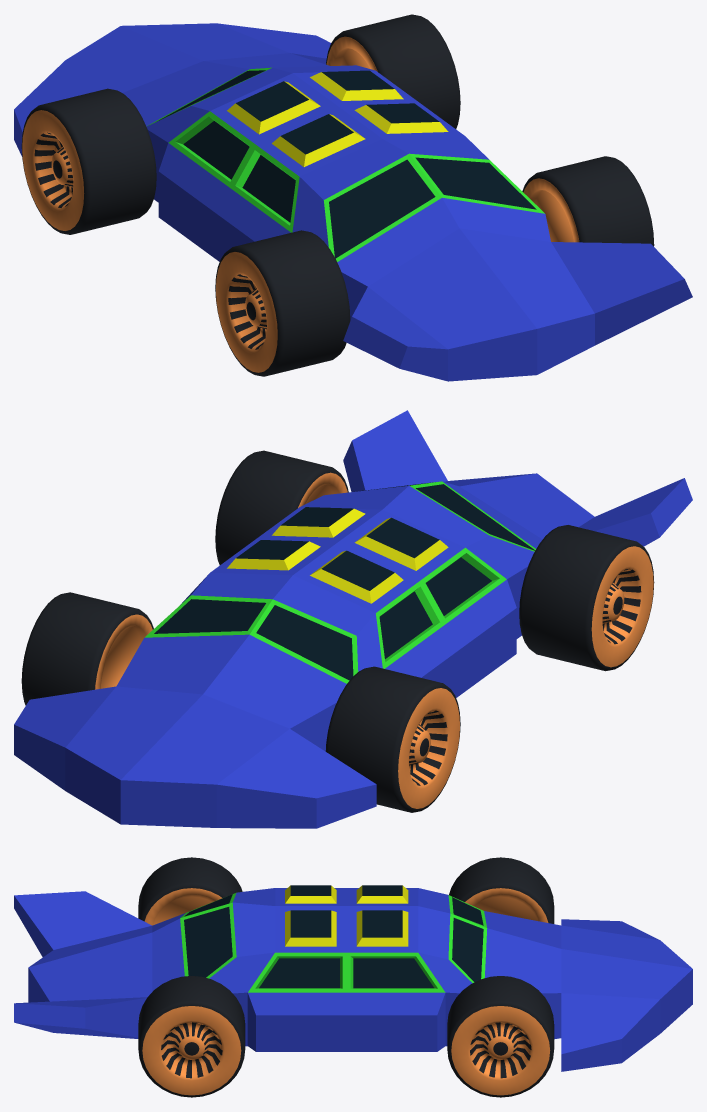
The model's file is car_shpere.gltf.
3 views of the same model, one above another, from view 1: azimuth 30°, elevation 25°; view 2: azimuth 150°, elevation 25°; view 3: azimuth 270°, elevation 25° (orthographic). The views are drawn at different scales.
Parts seen in each view (by area): view 1: Mesh_CarBody, 0_Mesh_Wheel_FrontLeft, 2_Mesh_Wheel_BackLeft, 3_Mesh_Wheel_BackRight, 1_Mesh_Wheel_FrontRight; view 2: Mesh_CarBody, 2_Mesh_Wheel_BackLeft, 0_Mesh_Wheel_FrontLeft, 1_Mesh_Wheel_FrontRight, 3_Mesh_Wheel_BackRight; view 3: Mesh_CarBody, 1_Mesh_Wheel_FrontRight, 3_Mesh_Wheel_BackRight, 0_Mesh_Wheel_FrontLeft, 2_Mesh_Wheel_BackLeft.
Boxes of the visible parts, x1,y1,x2,y2 form: Mesh_CarBody: [14, 23, 692, 381]; 0_Mesh_Wheel_FrontLeft: [21, 88, 156, 234]; 2_Mesh_Wheel_BackLeft: [215, 230, 350, 376]; 3_Mesh_Wheel_BackRight: [522, 156, 654, 246]; 1_Mesh_Wheel_FrontRight: [326, 14, 460, 128]; Mesh_CarBody: [14, 410, 692, 828]; 2_Mesh_Wheel_BackLeft: [519, 525, 654, 671]; 0_Mesh_Wheel_FrontLeft: [325, 666, 460, 812]; 1_Mesh_Wheel_FrontRight: [21, 592, 153, 705]; 3_Mesh_Wheel_BackRight: [215, 450, 348, 565]; Mesh_CarBody: [14, 885, 692, 1071]; 1_Mesh_Wheel_FrontRight: [447, 976, 554, 1097]; 3_Mesh_Wheel_BackRight: [138, 976, 245, 1097]; 0_Mesh_Wheel_FrontLeft: [449, 857, 554, 923]; 2_Mesh_Wheel_BackLeft: [138, 857, 242, 925].
Size of what is drawn, in the model's own units: 5.25 by 2.07 by 10.3.
